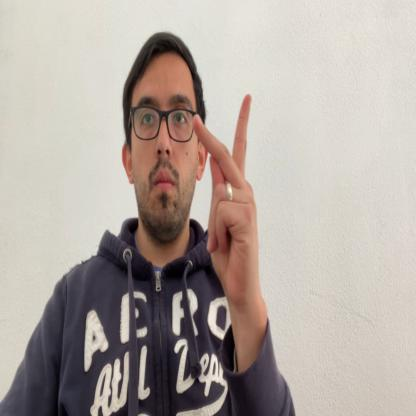P: (192, 93, 260, 324)
